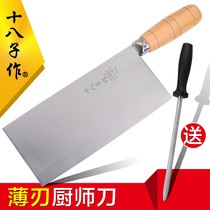knief: (21, 6, 192, 181)
